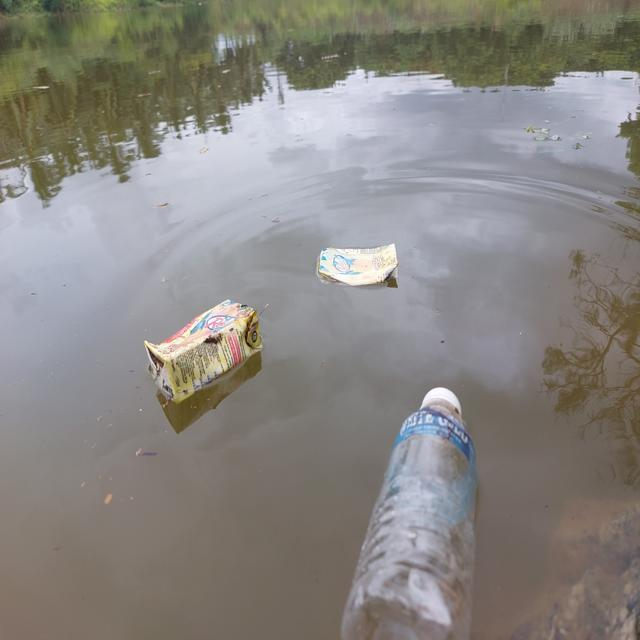paper: (143, 286, 252, 410), (317, 225, 422, 313)
waterbottle: (338, 349, 510, 640)
